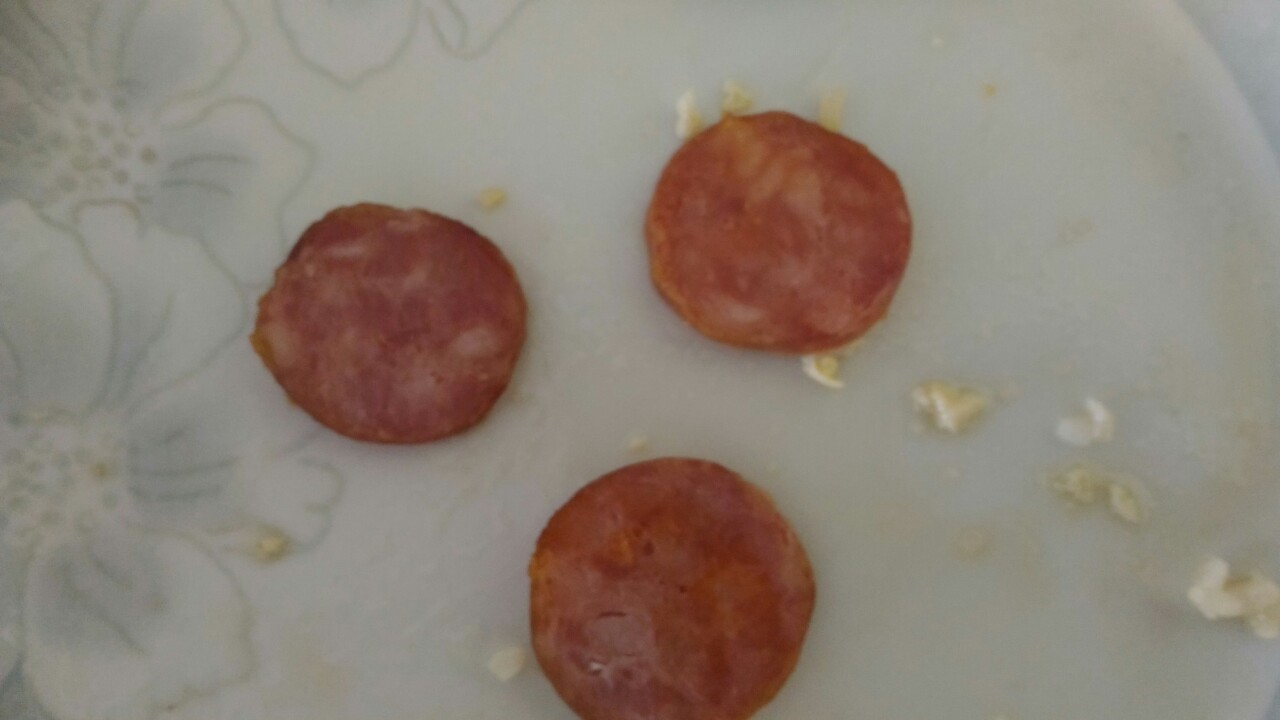chinese_sausage: (529, 454, 817, 720), (638, 95, 917, 351), (253, 203, 529, 440)
